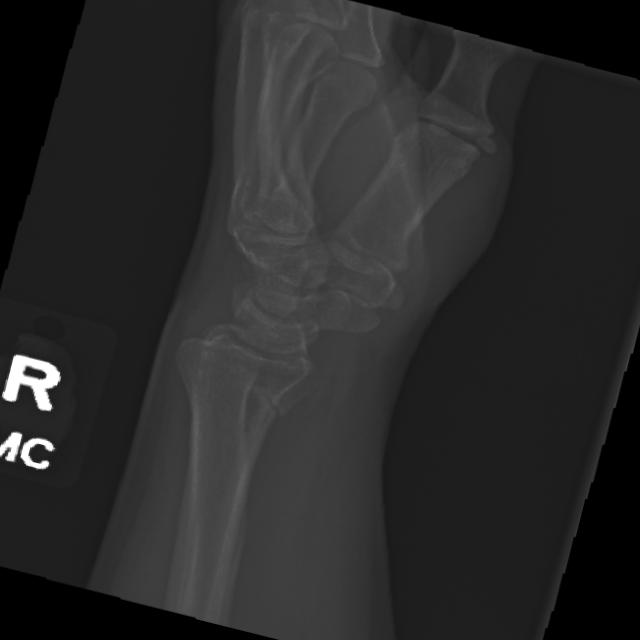fingers positive: (163, 331, 331, 442)
